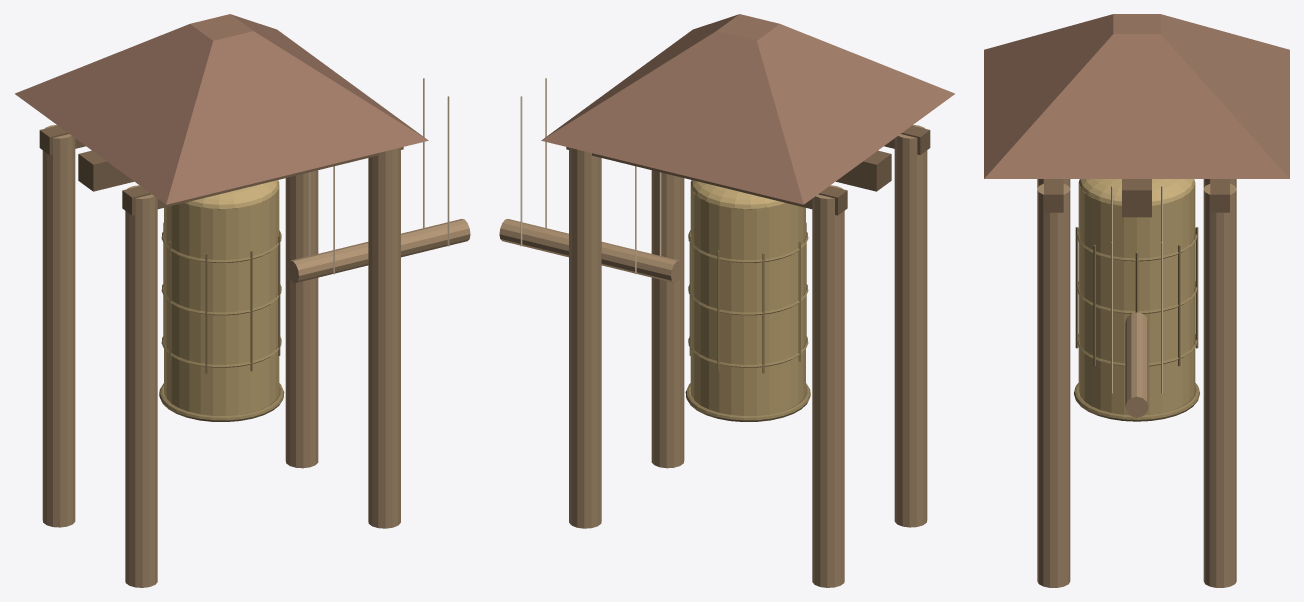
Rendered from temple_bell.glb.
The picture shows the model from 3 angles, left to right: view 1: azimuth 30°, elevation 25°; view 2: azimuth 150°, elevation 25°; view 3: azimuth 270°, elevation 25°; orthographic projection.
Parts seen in each view (by area): view 1: temple_bell; view 2: temple_bell; view 3: temple_bell.
Part boxes in pixels (<box>): temple_bell: <box>15,14,470,587</box>; temple_bell: <box>499,14,954,587</box>; temple_bell: <box>984,14,1289,587</box>.
Size of the model in its own units: 2.65 by 3.3 by 1.84.
